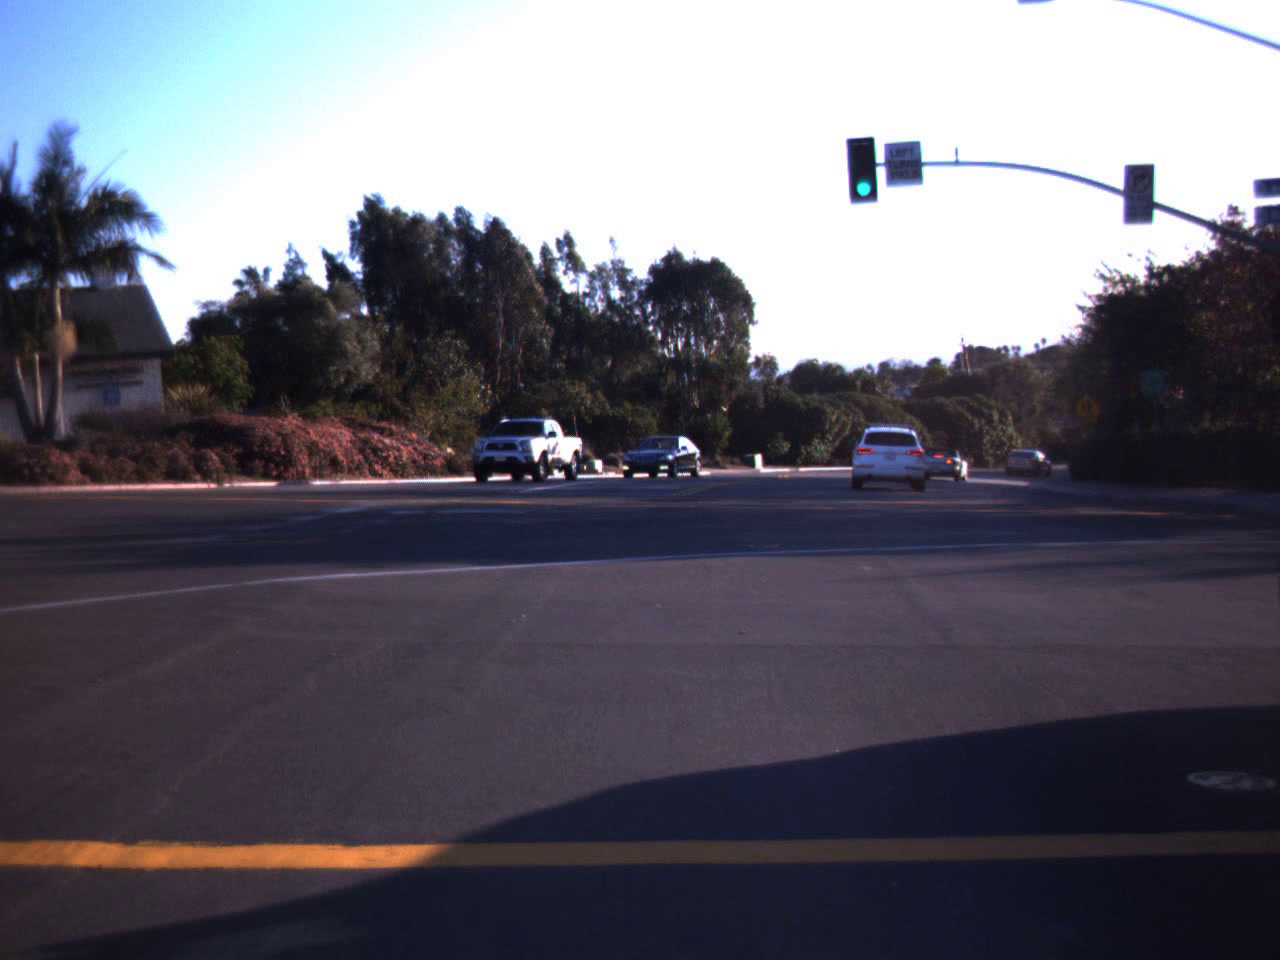go: (846, 141, 882, 201)
